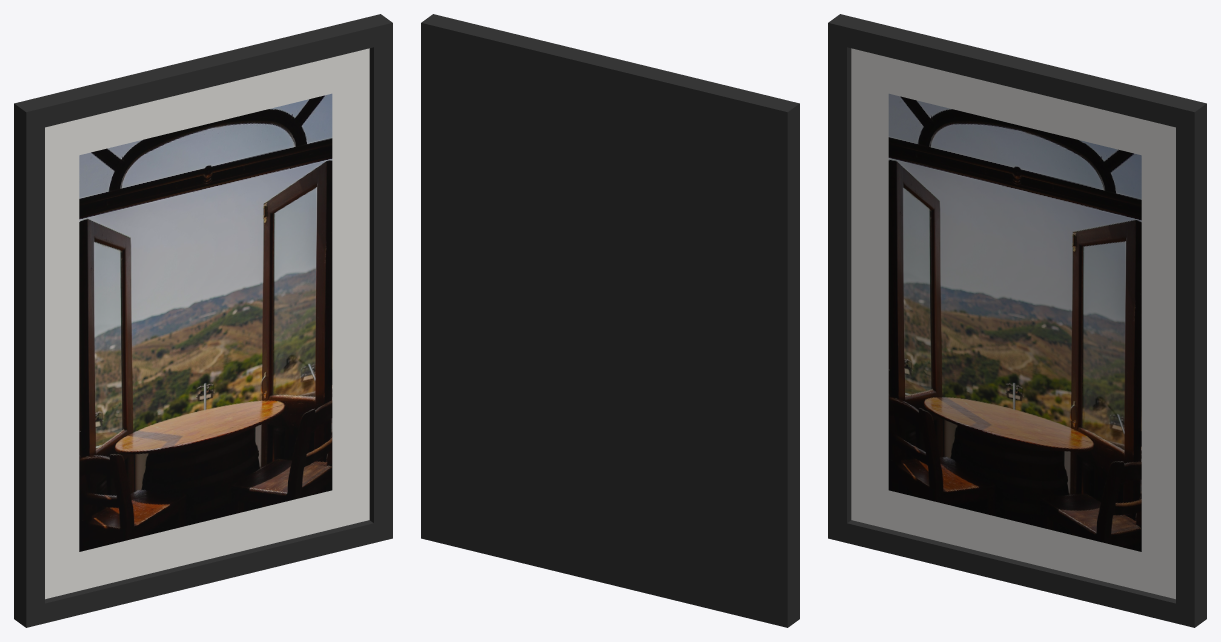
File: bordet-40.gltf
The picture shows the model from 3 angles, left to right: view 1: azimuth 30°, elevation 25°; view 2: azimuth 150°, elevation 25°; view 3: azimuth 330°, elevation 25°; orthographic projection.
Visible parts, largest first — view 1: tavla; view 2: tavla; view 3: tavla.
Part boxes in pixels (box(x1,y1,x2,y2)): tavla: box(14, 14, 392, 627); tavla: box(421, 14, 799, 627); tavla: box(828, 14, 1206, 627).
Size of the model in its own units: 0.3869 by 0.52 by 0.022.
Materials: 3 (1 with a texture image).
